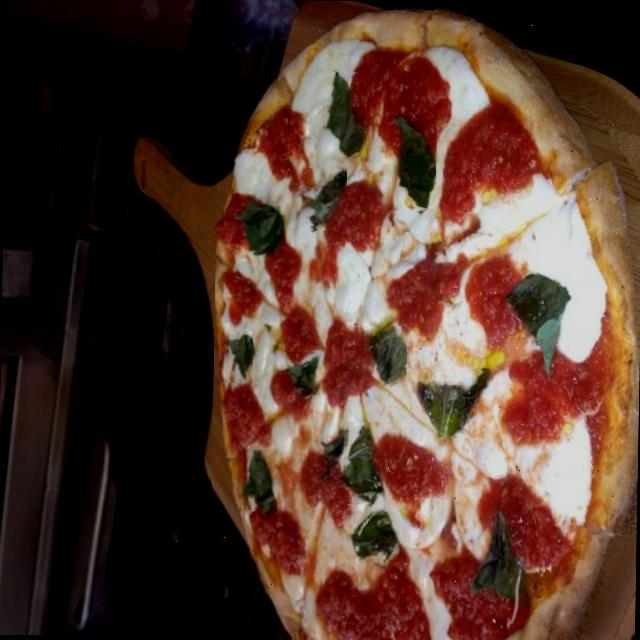basil: (504, 272, 570, 378), (468, 511, 526, 608), (413, 368, 492, 438), (388, 113, 436, 211), (323, 71, 366, 157), (340, 422, 385, 504), (347, 510, 399, 559), (306, 168, 346, 230), (365, 324, 406, 384), (238, 448, 276, 512), (237, 205, 284, 252), (280, 351, 320, 395), (225, 330, 252, 382), (318, 431, 346, 473)
pizza: (215, 19, 638, 640)
